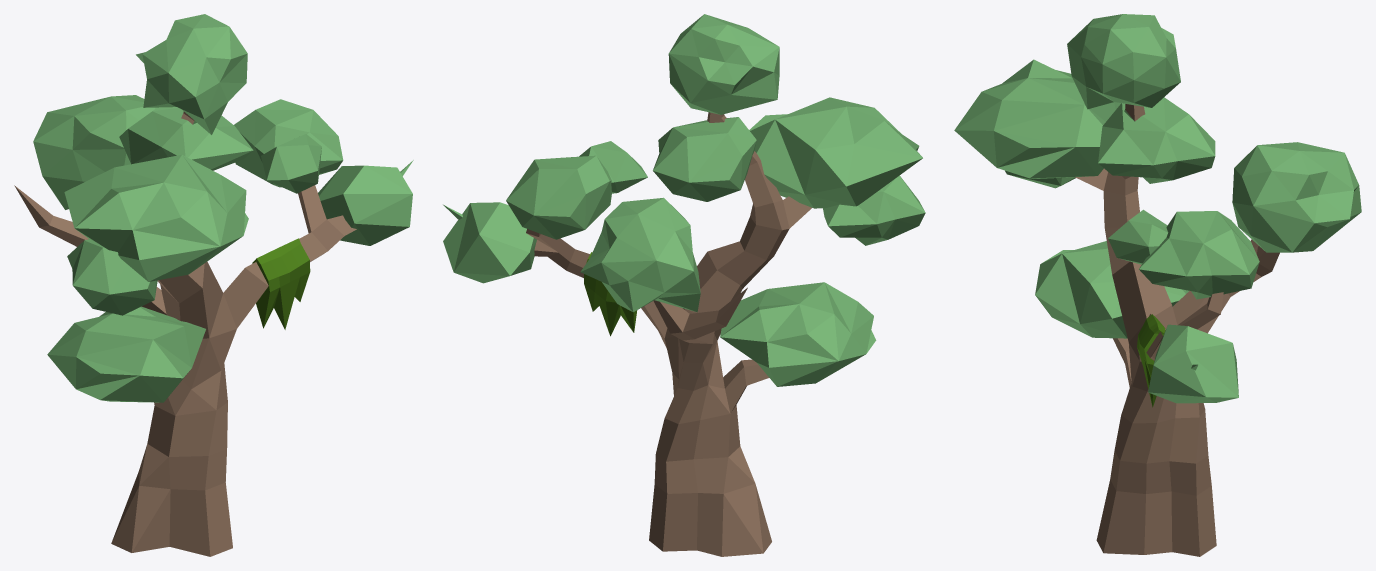
File: swamp_trees.fbx
The picture shows the model from 3 angles, left to right: view 1: azimuth 30°, elevation 25°; view 2: azimuth 150°, elevation 25°; view 3: azimuth 270°, elevation 25°; orthographic projection. The views are drawn at different scales.
Parts seen in each view (by area): view 1: Cylinder.004; view 2: Cylinder.004; view 3: Cylinder.004.
Part boxes in pixels (box(x1,y1,x2,y2)): Cylinder.004: box(14, 14, 413, 556); Cylinder.004: box(443, 14, 925, 556); Cylinder.004: box(954, 14, 1361, 556).
Size of the model in its own units: 559 by 659 by 464.
